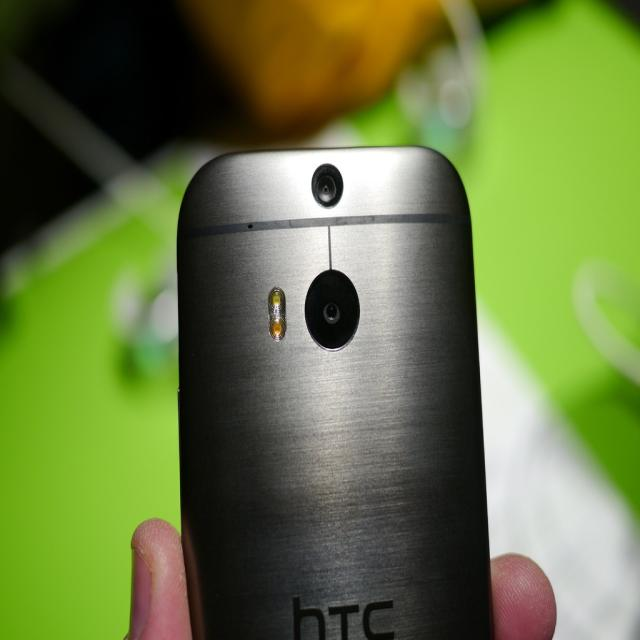Mobile-phone: (178, 147, 497, 639)
